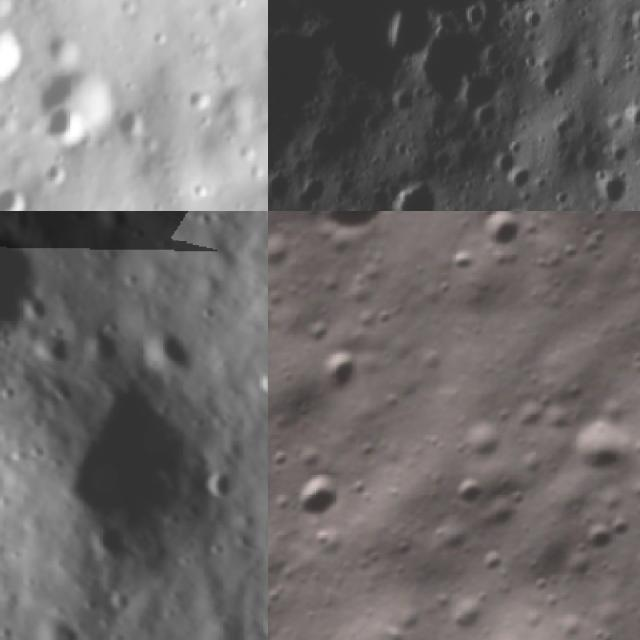crater: (12, 355, 243, 583), (0, 211, 73, 364), (551, 401, 640, 498), (28, 61, 118, 147), (411, 21, 491, 108), (278, 458, 358, 538), (290, 211, 408, 257), (75, 514, 146, 585), (568, 498, 636, 568), (456, 211, 531, 270), (145, 321, 207, 386), (308, 339, 370, 402), (439, 463, 500, 524), (383, 2, 436, 68), (196, 462, 247, 513), (35, 108, 86, 153), (0, 14, 29, 87), (385, 177, 445, 211), (241, 356, 268, 416), (534, 65, 571, 107), (592, 173, 632, 210), (51, 211, 132, 228), (294, 175, 331, 211), (502, 159, 538, 195), (472, 100, 506, 134), (486, 148, 518, 184), (116, 99, 144, 139), (388, 88, 422, 119), (185, 84, 218, 115), (268, 168, 292, 208), (0, 182, 33, 211), (615, 103, 640, 132), (39, 159, 65, 182), (465, 4, 483, 30), (629, 6, 640, 39)
